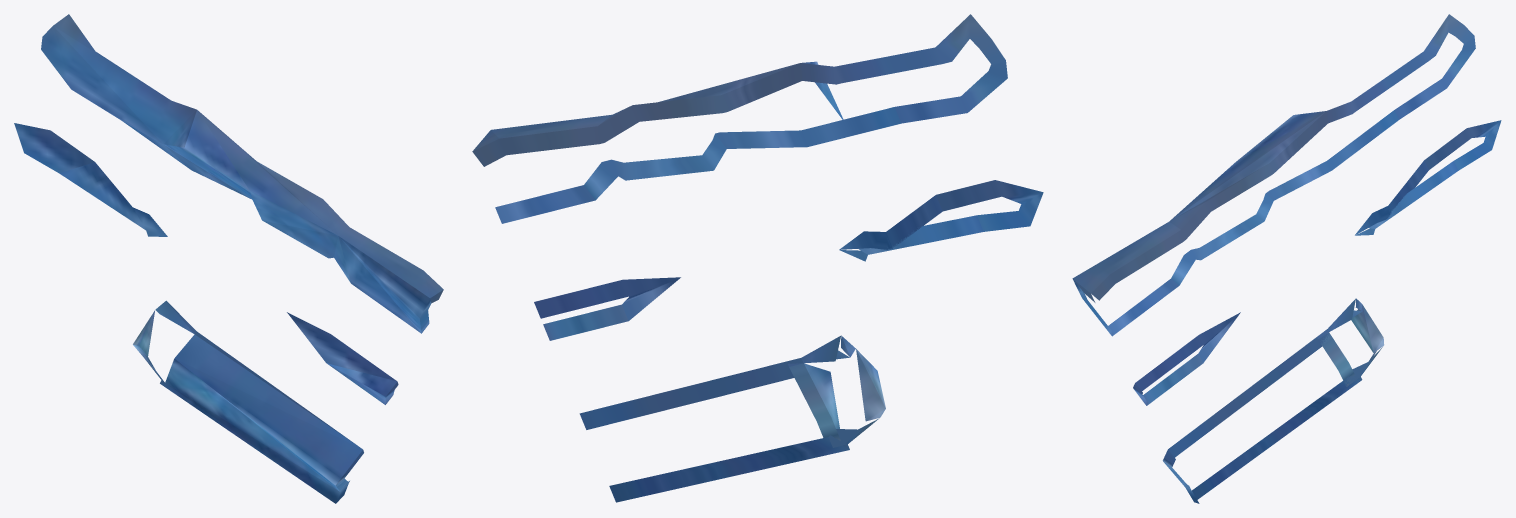
3 renders of one model, left to right at view 1: azimuth 30°, elevation 25°; view 2: azimuth 210°, elevation 25°; view 3: azimuth 270°, elevation 25°, orthographic. The views are drawn at different scales.
Bounding box in the file's own units: 8.48 × 15.7 × 14.46.
1 material, 1 textured.
